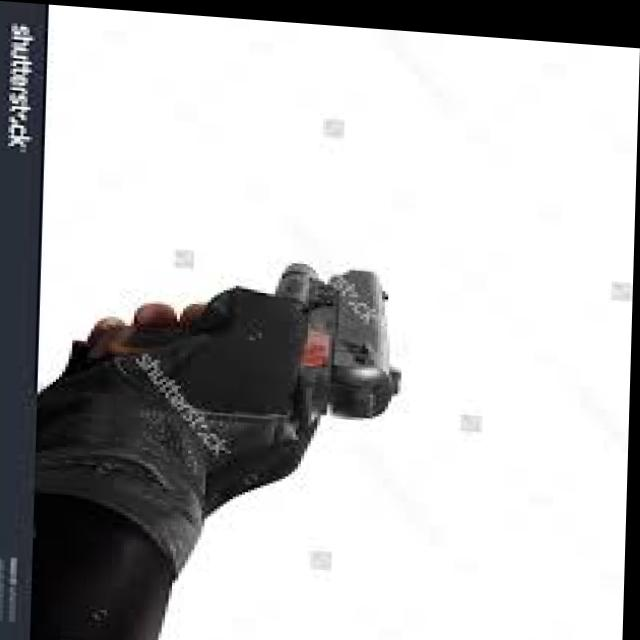handgun: (79, 224, 421, 419)
